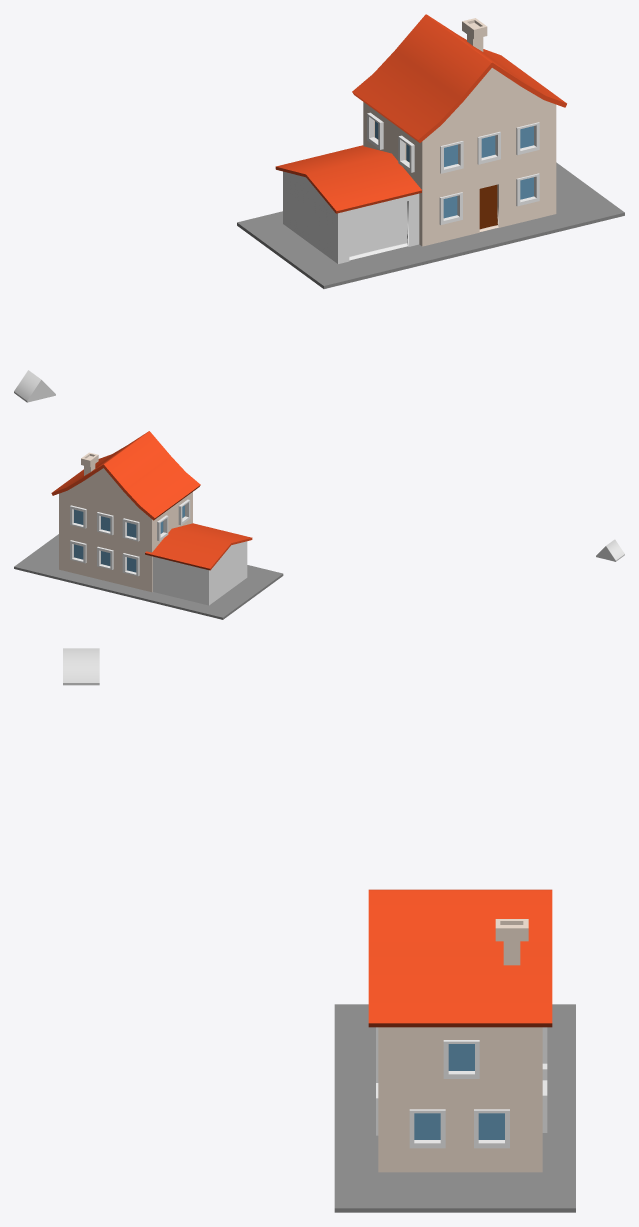
Rendered from Dom III.FBX.
The picture shows the model from 3 angles, top to bottom: view 1: azimuth 30°, elevation 25°; view 2: azimuth 150°, elevation 25°; view 3: azimuth 270°, elevation 25°; orthographic projection. The views are drawn at different scales.
Visible parts, largest first — view 1: Box008, Object002, Plane001, Object004, Box014, Box011, Box012, Box010, Box013; view 2: Box008, Object002, Plane001, Box014, Object004, Box012, Box010; view 3: Object002, Plane001, Box008, Box012, Box010, Box021, Box007, Box022.
Boxes of the visible parts, x1,y1,x2,y2 form: Box008: [363, 68, 556, 246]; Object002: [352, 14, 566, 142]; Plane001: [237, 162, 624, 288]; Object004: [275, 145, 422, 213]; Box014: [283, 171, 419, 263]; Box011: [349, 201, 407, 256]; Box012: [375, 121, 533, 218]; Box010: [14, 370, 55, 402]; Box013: [479, 184, 497, 229]; Box008: [59, 468, 192, 592]; Object002: [51, 431, 200, 520]; Plane001: [14, 534, 283, 619]; Box014: [152, 541, 247, 605]; Object004: [145, 523, 252, 570]; Box012: [74, 505, 184, 572]; Box010: [596, 539, 624, 561]; Object002: [368, 889, 552, 1027]; Plane001: [334, 1004, 575, 1212]; Box008: [378, 1027, 542, 1172]; Box012: [414, 1044, 504, 1139]; Box010: [63, 648, 99, 685]; Box021: [409, 1109, 445, 1148]; Box007: [495, 919, 528, 941]; Box022: [474, 1109, 509, 1148].
Bounding box in the file's own units: 4.62 × 1.1 × 2.12.
